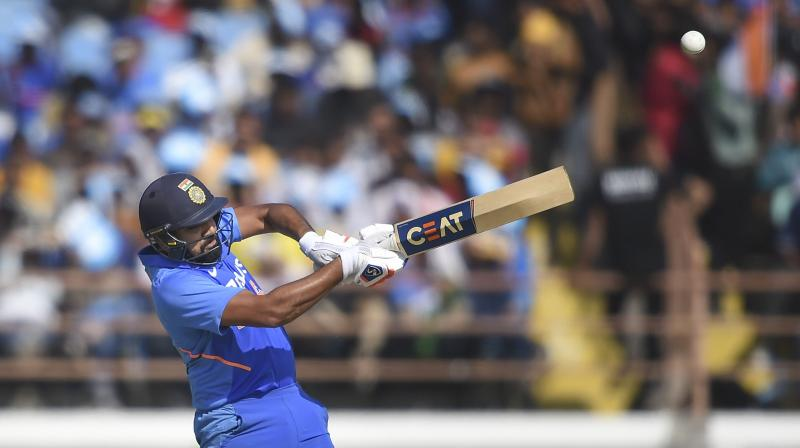Pullshot: (66, 0, 725, 447)
